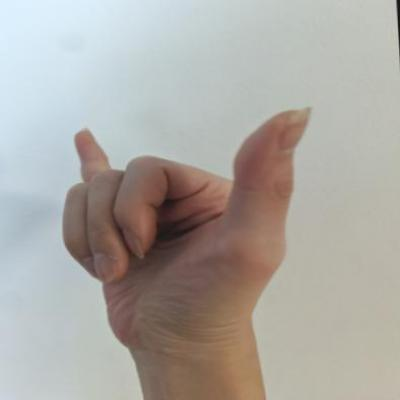hand: (49, 96, 328, 360)
